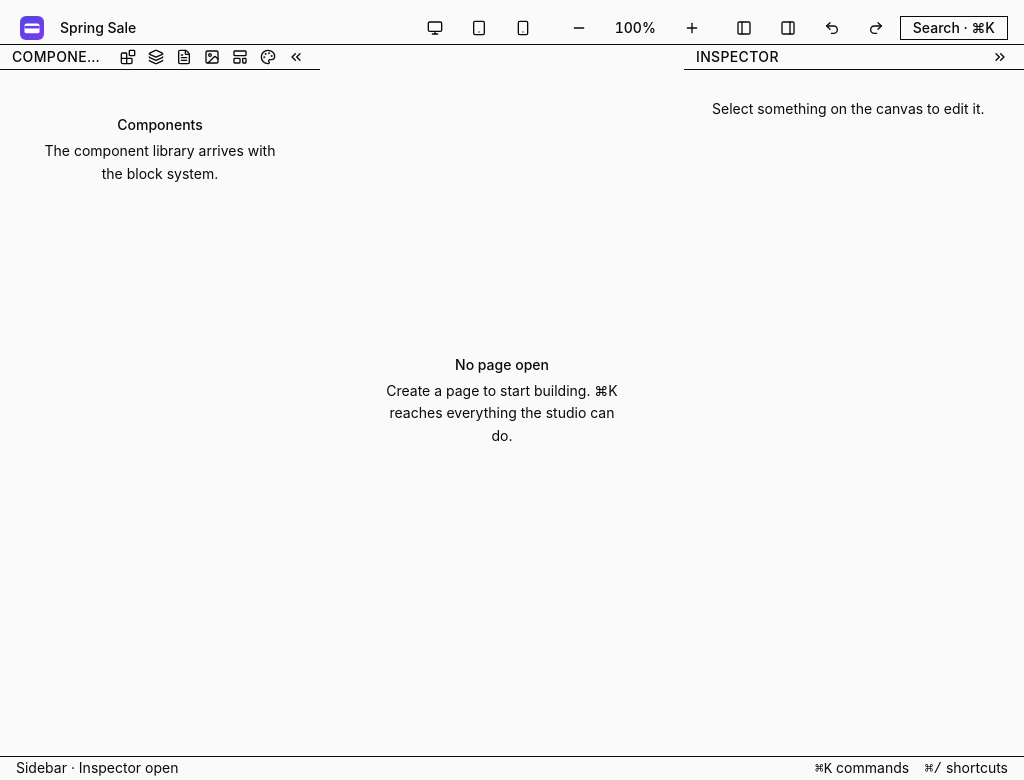
Test: StudioShell › panels › hides the inspector entirely rather than railing it
The width and height of the screenshot is (1024, 780).
Click the button named "Toggle inspector": (788, 28) [768,20,808,36]
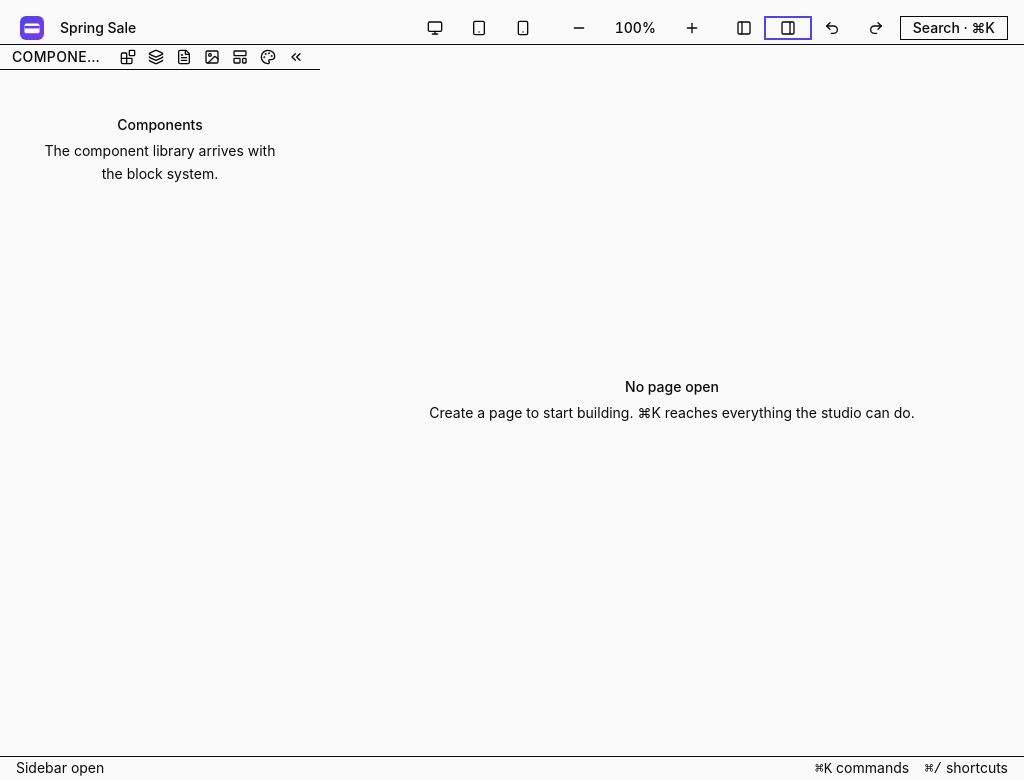
Expected: the heading "Inspector" is gone
